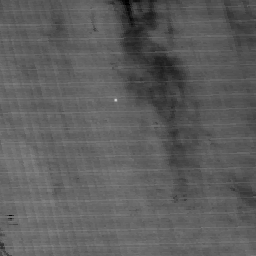Target: (112, 96, 119, 103)
